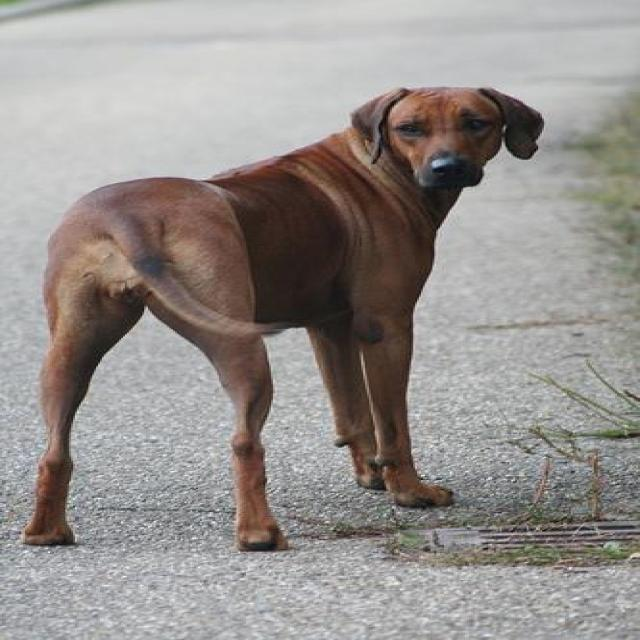rhodesian_ridgeback: (19, 84, 552, 553)
